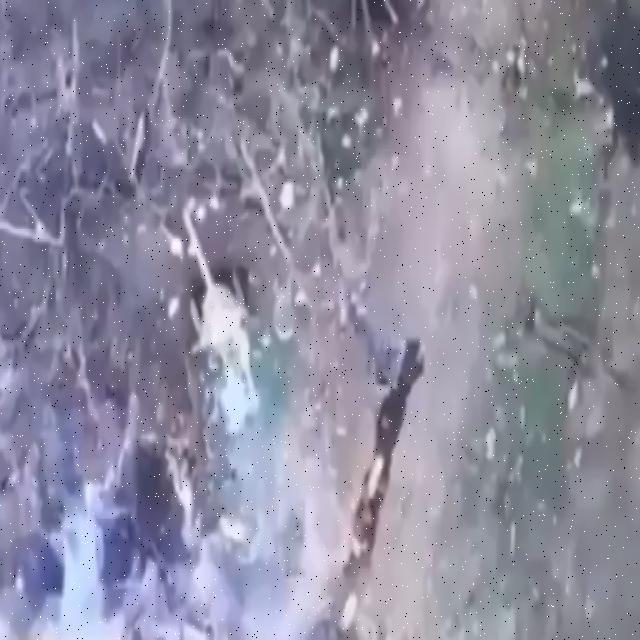ART: (178, 205, 256, 387)
